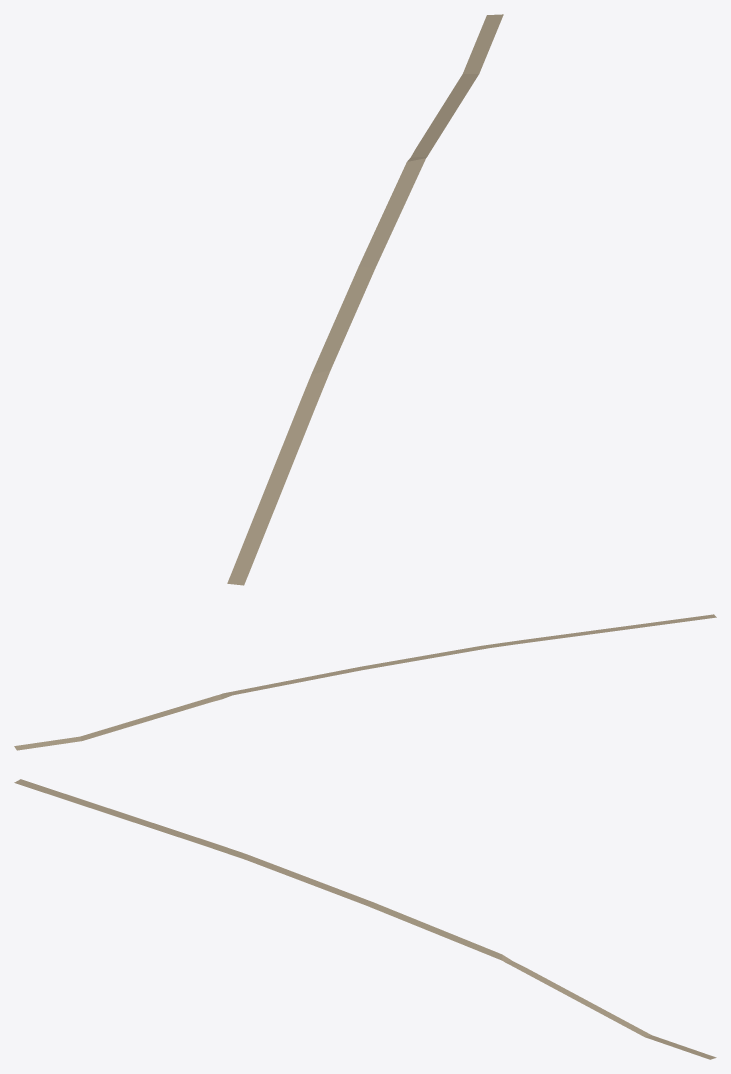
File: farm_-1_8_track.glb
3 views of the same model, one above another, from view 1: azimuth 30°, elevation 25°; view 2: azimuth 150°, elevation 25°; view 3: azimuth 270°, elevation 25° (orthographic). The views are drawn at different scales.
Visible parts, largest first — view 1: geometry_0; view 2: geometry_0; view 3: geometry_0.
Boxes of the visible parts, bbox=[...] form: geometry_0: bbox=[227, 14, 503, 585]; geometry_0: bbox=[14, 614, 716, 750]; geometry_0: bbox=[14, 779, 716, 1059].
Bounding box in the file's own units: 185 × 12.8 × 219.
